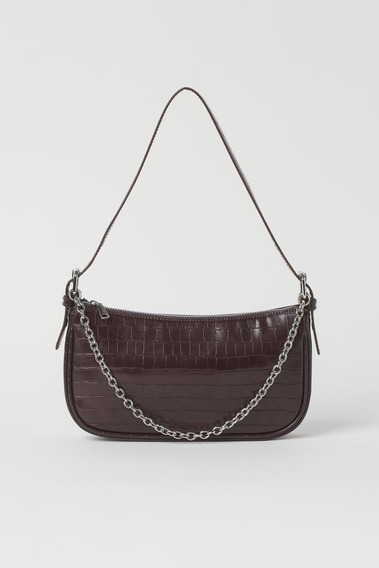cartera: (53, 85, 322, 445)
